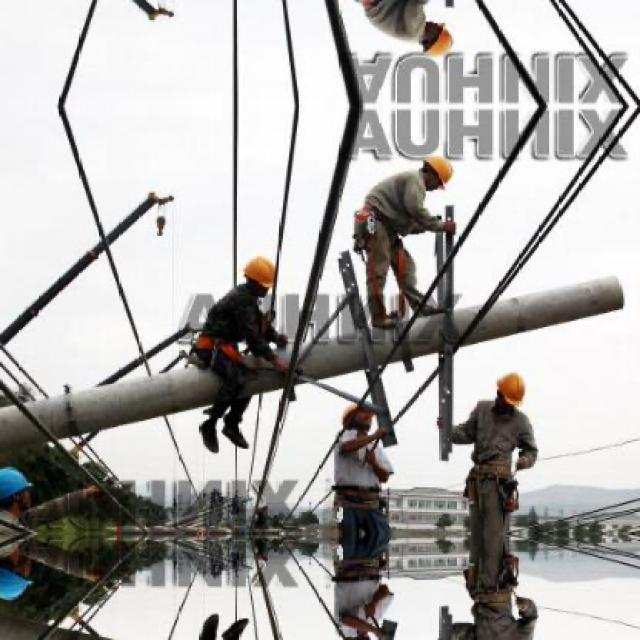helmet: (1, 461, 34, 523), (1, 544, 34, 606), (238, 251, 280, 298), (414, 23, 457, 62), (494, 370, 531, 415), (414, 153, 457, 191), (338, 401, 378, 436), (337, 631, 378, 638)
